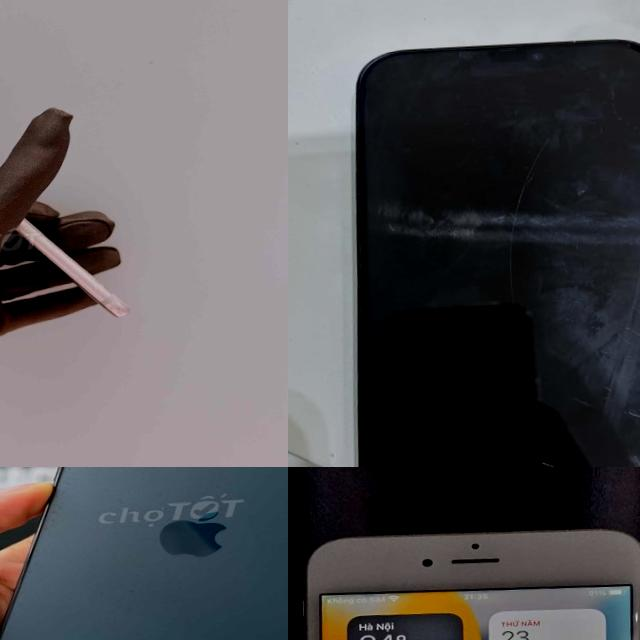gen_12_13: (325, 22, 640, 467), (0, 467, 288, 640)
gen_6: (303, 530, 640, 640), (14, 219, 127, 315)
scratch: (79, 280, 134, 323), (501, 242, 520, 314), (15, 216, 59, 241), (507, 172, 532, 200), (528, 139, 550, 169), (620, 319, 640, 349), (570, 389, 594, 411), (504, 208, 520, 232), (599, 384, 617, 399), (629, 403, 640, 423), (540, 457, 556, 467)
